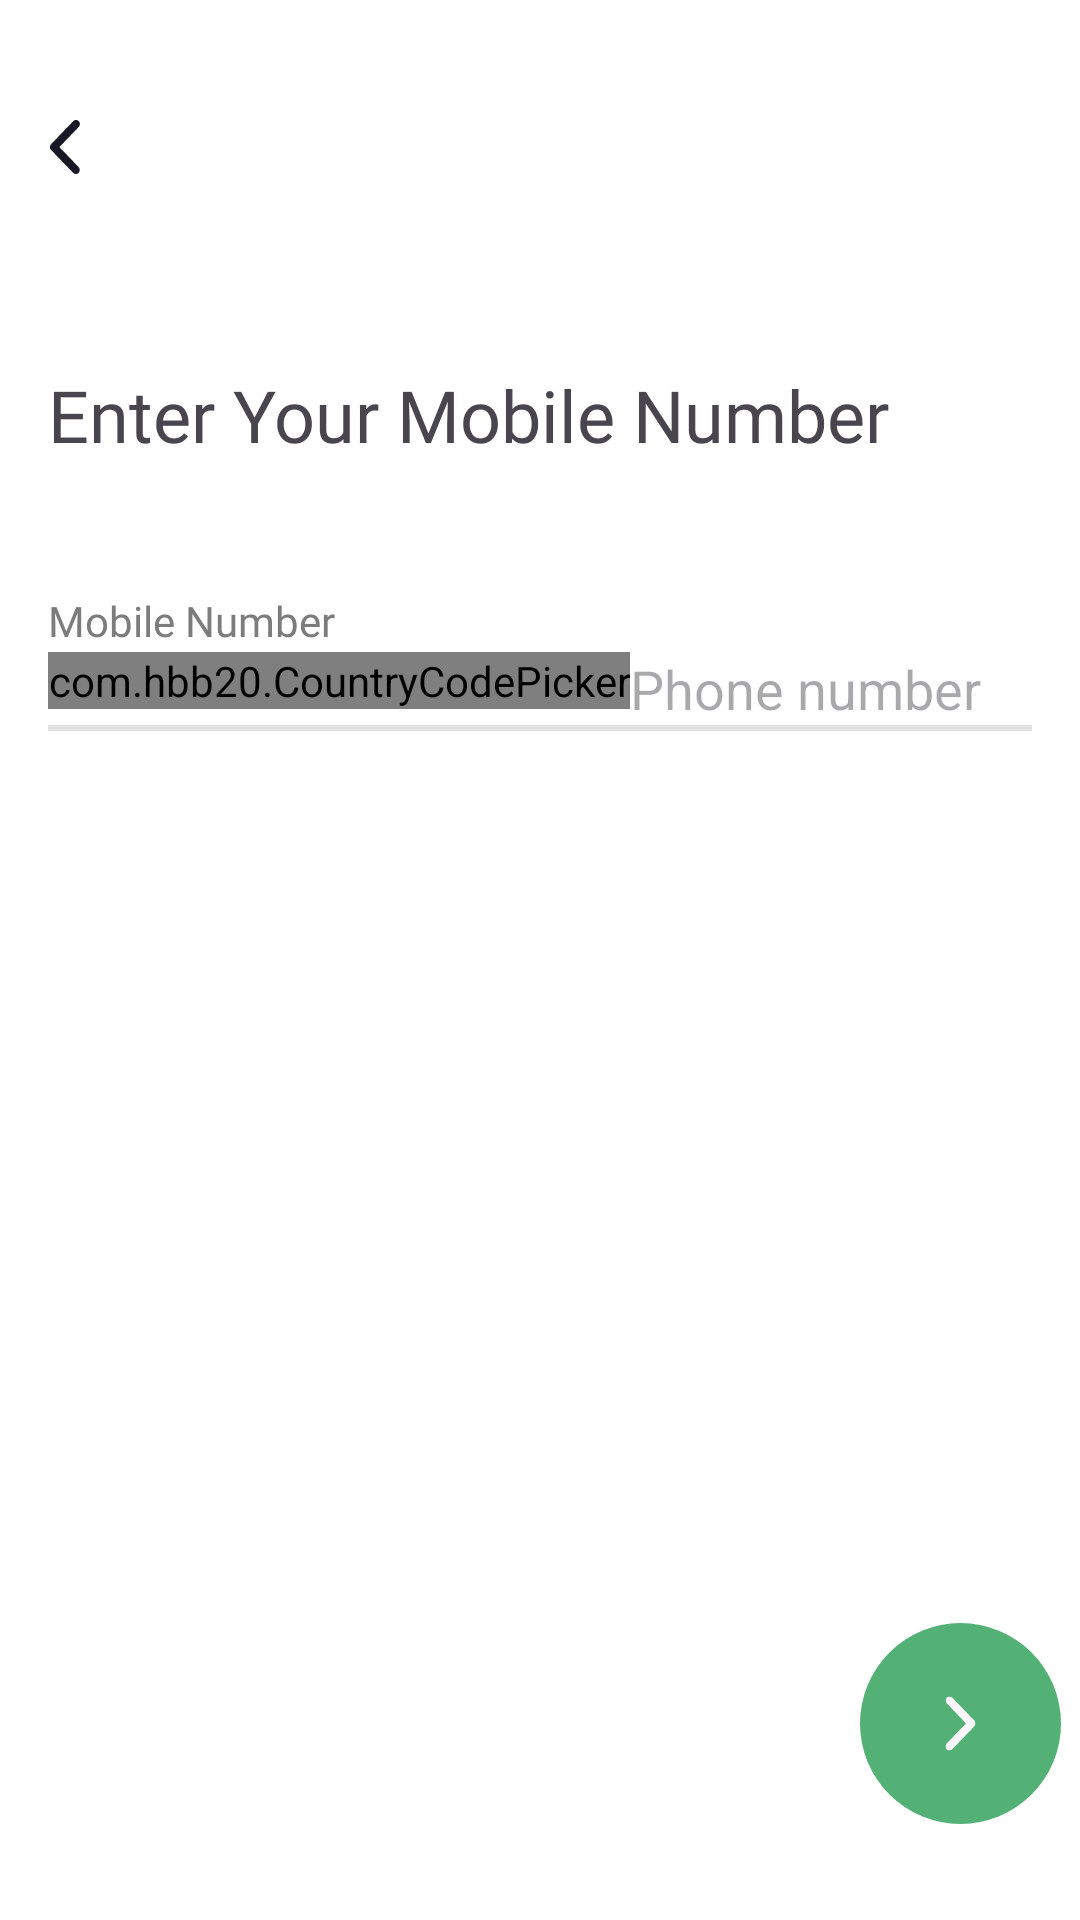

Icons on this 1080×1920 Android screen, each with the point to tap as (x,y):
back: (65,147)
